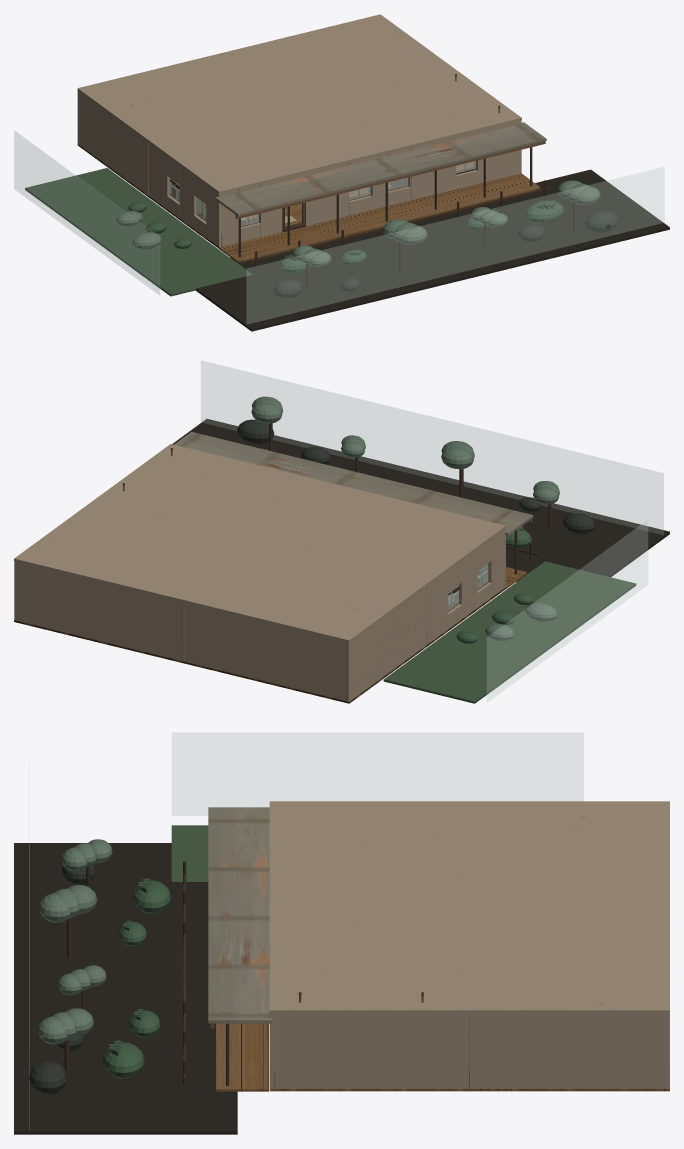
File: lawson-house-interior.glb
3 views of the same model, one above another, from view 1: azimuth 30°, elevation 25°; view 2: azimuth 150°, elevation 25°; view 3: azimuth 270°, elevation 25° (orthographic). The views are drawn at different scales.
Visible parts, largest first — view 1: LawsonHouse_Ceiling, ExteriorFrontMistNear, WestDampBand, FrontWall_Pier_-10.50, ExteriorWestGround, StoreRawPanel, LawsonHouse_Floor, ExteriorScalesiaCrown_0_0, ExteriorGardenMass_0, ExteriorBasalt_0, FrontThreshold, PrivateDoor_Slab (+2 smaller); view 2: LawsonHouse_Ceiling, ExteriorFrontMistNear, RearWall, ExteriorWestGround, WestDampBand, FrontWall_Pier_-10.50, StoreRawPanel, ExteriorScalesiaCrown_0_0, ExteriorBasalt_0, LawsonHouse_Floor, ExteriorGardenMass_0, FrontThreshold; view 3: LawsonHouse_Ceiling, WestDampBand, FrontWall_Pier_-10.50, ExteriorFrontMistNear, StoreRawPanel, ExteriorScalesiaCrown_0_0, LawsonHouse_Floor, ExteriorGardenMass_0, ExteriorWestGround, ExteriorBasalt_0, FrontThreshold, PrivateDoor_Slab.
Boxes of the visible parts, x1,y1,x2,y2 form: LawsonHouse_Ceiling: (77, 14, 521, 193); ExteriorFrontMistNear: (14, 130, 664, 324); WestDampBand: (196, 169, 669, 331); FrontWall_Pier_-10.50: (79, 92, 521, 247); ExteriorWestGround: (25, 168, 252, 296); StoreRawPanel: (215, 122, 546, 216); LawsonHouse_Floor: (77, 144, 540, 262); ExteriorScalesiaCrown_0_0: (116, 180, 600, 267); ExteriorGardenMass_0: (128, 200, 564, 274); ExteriorBasalt_0: (273, 210, 618, 298); FrontThreshold: (176, 147, 576, 289); PrivateDoor_Slab: (172, 180, 552, 268); LawsonHouse_Ceiling: (14, 444, 505, 642); ExteriorFrontMistNear: (201, 360, 663, 702); RearWall: (17, 561, 350, 701); ExteriorWestGround: (383, 561, 636, 703); WestDampBand: (172, 418, 669, 581); FrontWall_Pier_-10.50: (14, 528, 505, 701); StoreRawPanel: (174, 431, 533, 535); ExteriorScalesiaCrown_0_0: (251, 396, 559, 640); ExteriorBasalt_0: (237, 419, 595, 534); LawsonHouse_Floor: (14, 567, 526, 703); ExteriorGardenMass_0: (261, 448, 533, 643); FrontThreshold: (269, 423, 551, 593); LawsonHouse_Ceiling: (269, 801, 669, 1013); WestDampBand: (14, 843, 237, 1134); FrontWall_Pier_-10.50: (269, 1013, 669, 1089); ExteriorFrontMistNear: (29, 732, 583, 1129); StoreRawPanel: (208, 807, 271, 1023); ExteriorScalesiaCrown_0_0: (37, 839, 112, 1044); LawsonHouse_Floor: (216, 1023, 669, 1091); ExteriorGardenMass_0: (102, 878, 170, 1078); ExteriorWestGround: (171, 825, 208, 881); ExteriorBasalt_0: (28, 865, 95, 1094); FrontThreshold: (64, 866, 229, 1085); PrivateDoor_Slab: (183, 861, 186, 1084).
Bounding box in the file's own units: 31.52 × 4.41 × 27.85.
32 materials, 11 textured.
